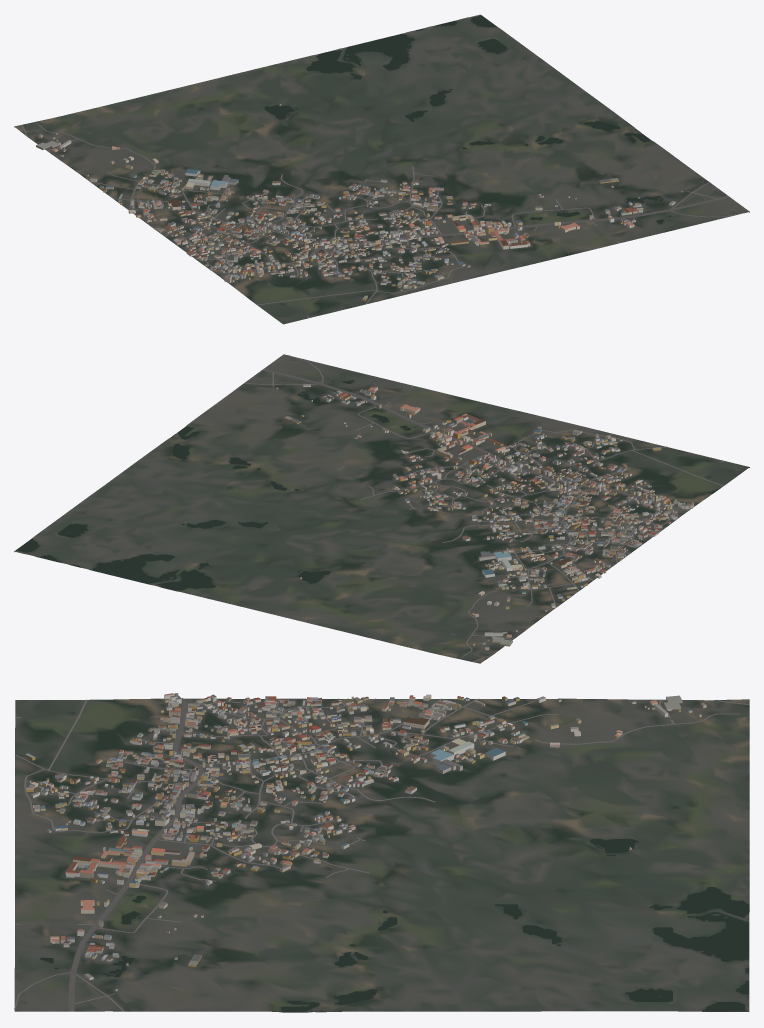
3 views of the same model, one above another, from view 1: azimuth 30°, elevation 25°; view 2: azimuth 150°, elevation 25°; view 3: azimuth 270°, elevation 25° (orthographic). The views are drawn at different scales.
Parts seen in each view (by area): view 1: ground, buildings, water, roads; view 2: ground, buildings, roads, water; view 3: ground, buildings, water, roads.
Part boxes in pixels (left/top/right/bottom): ground: left=14, top=14, right=749, bottom=324; buildings: left=36, top=104, right=682, bottom=300; water: left=264, top=15, right=671, bottom=224; roads: left=21, top=124, right=746, bottom=317; ground: left=14, top=354, right=749, bottom=663; buildings: left=276, top=384, right=693, bottom=650; roads: left=244, top=355, right=723, bottom=661; water: left=16, top=380, right=411, bottom=590; ground: left=14, top=698, right=749, bottom=1012; buildings: left=25, top=693, right=706, bottom=991; water: left=40, top=838, right=748, bottom=1011; roads: left=14, top=698, right=749, bottom=1011.
Bounding box in the file's own units: 1412 × 26.85 × 1404.
